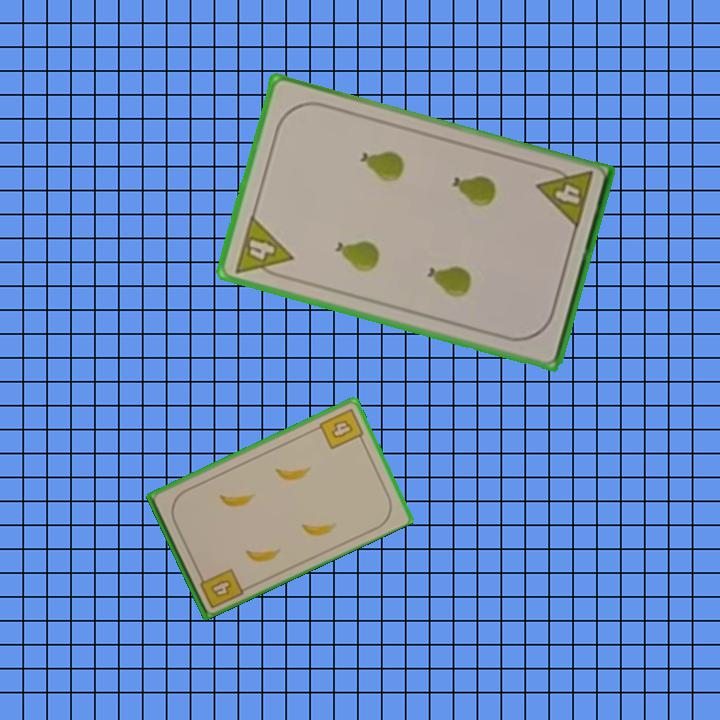4b: (316, 405, 367, 452), (195, 564, 246, 611)
4p: (230, 211, 296, 283), (533, 162, 596, 232)
